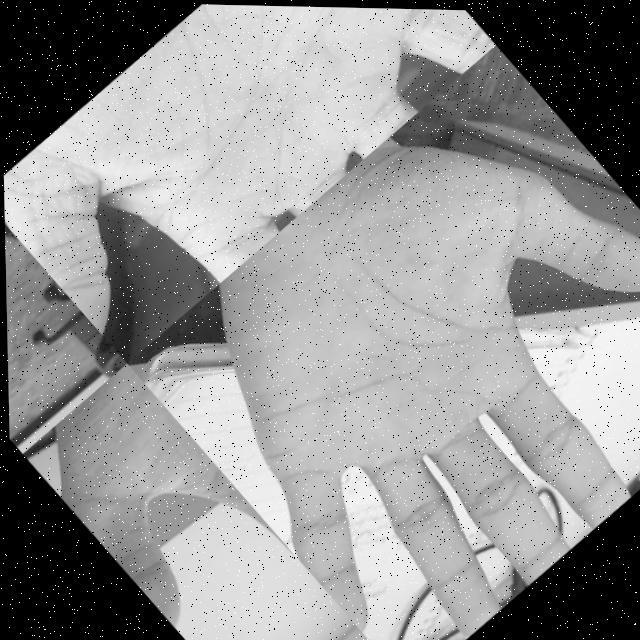no-gloves: (119, 35, 640, 640), (0, 0, 501, 369), (17, 360, 360, 640)
